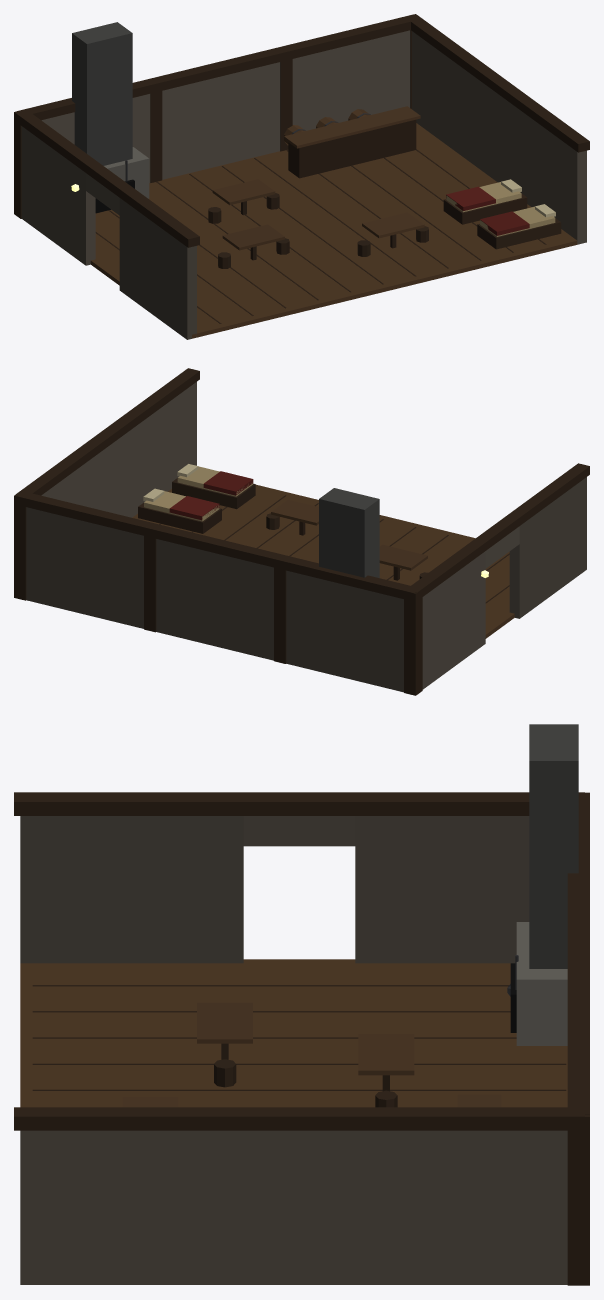
File: inn_shell.glb
The picture shows the model from 3 angles, top to bottom: view 1: azimuth 30°, elevation 25°; view 2: azimuth 150°, elevation 25°; view 3: azimuth 270°, elevation 25°; orthographic projection. The views are drawn at different scales.
Parts seen in each view (by area): view 1: InnShell; view 2: InnShell; view 3: InnShell.
Part boxes in pixels (x1,y1,x2,y2): InnShell: (14, 14, 589, 339); InnShell: (14, 368, 589, 695); InnShell: (14, 724, 589, 1285).
Bounding box in the file's own units: 12.59 × 5 × 9.28.
